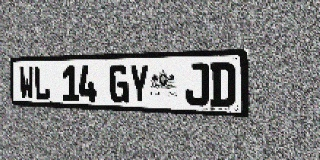1: (61, 65, 79, 101)
4: (78, 65, 97, 102)
D: (210, 62, 235, 107)
G: (109, 64, 129, 103)
J: (185, 63, 209, 106)
L: (34, 66, 50, 100)
W: (19, 66, 35, 100)
Y: (129, 64, 150, 104)
